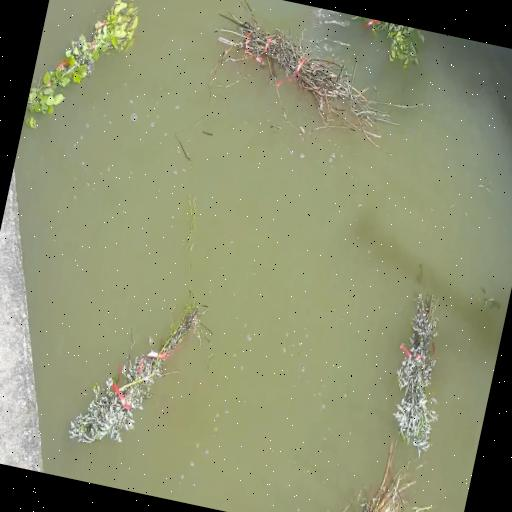twig: (219, 2, 399, 142), (69, 304, 204, 443), (26, 0, 138, 113), (394, 290, 438, 455), (353, 15, 423, 67), (359, 445, 413, 512)
